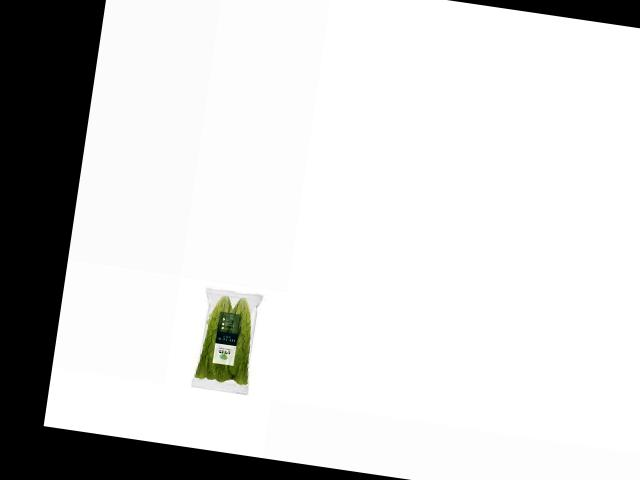lettuce: (194, 291, 266, 389)
